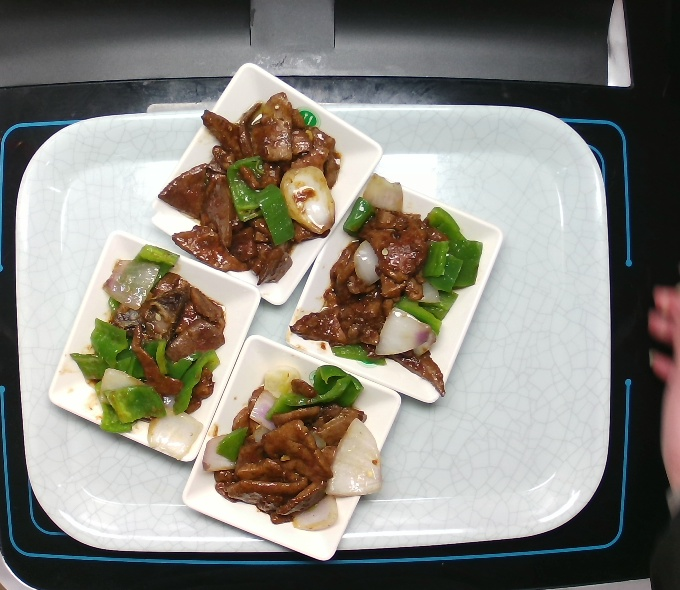wcq-ZhuGan: (293, 171, 490, 400), (154, 85, 352, 288), (63, 240, 228, 464), (195, 356, 389, 544)
